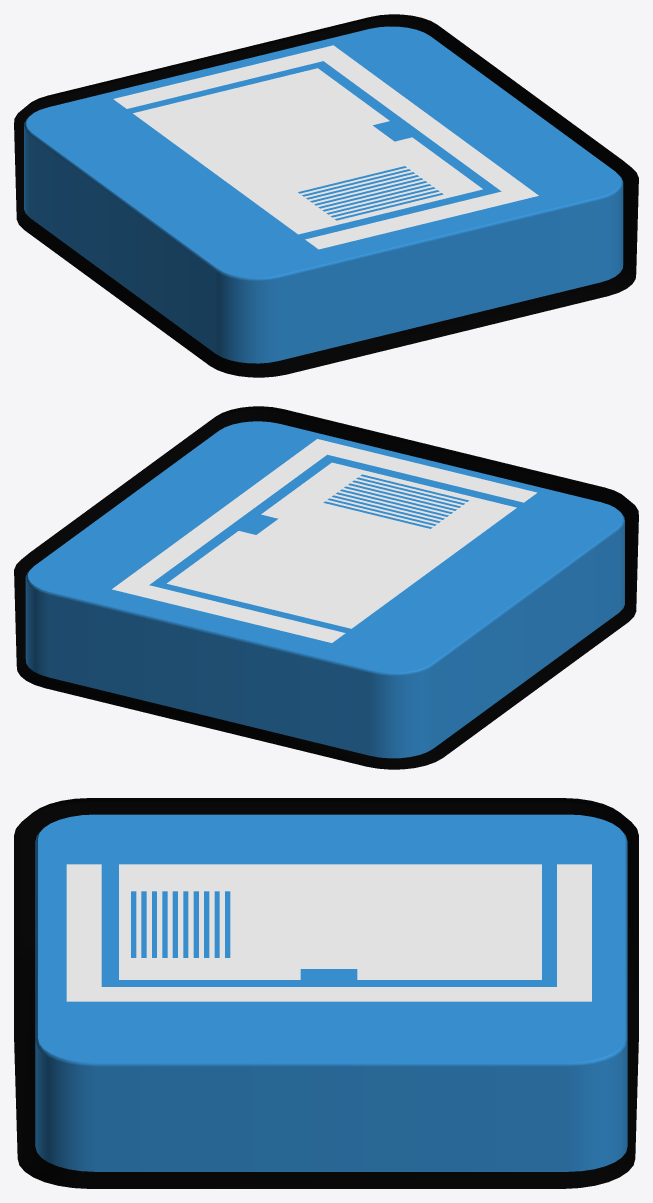
File: ArrayCabinet.obj
The picture shows the model from 3 angles, top to bottom: view 1: azimuth 30°, elevation 25°; view 2: azimuth 150°, elevation 25°; view 3: azimuth 270°, elevation 25°; orthographic projection. The views are drawn at different scales.
Visible parts, largest first — view 1: ArrayCabinet; view 2: ArrayCabinet; view 3: ArrayCabinet.
Part boxes in pixels (left/top/right/bottom): ArrayCabinet: left=14, top=14, right=638, bottom=377; ArrayCabinet: left=14, top=406, right=638, bottom=769; ArrayCabinet: left=14, top=798, right=638, bottom=1188.
Bounding box in the file's own units: 1.06 × 0.2484 × 1.06.
